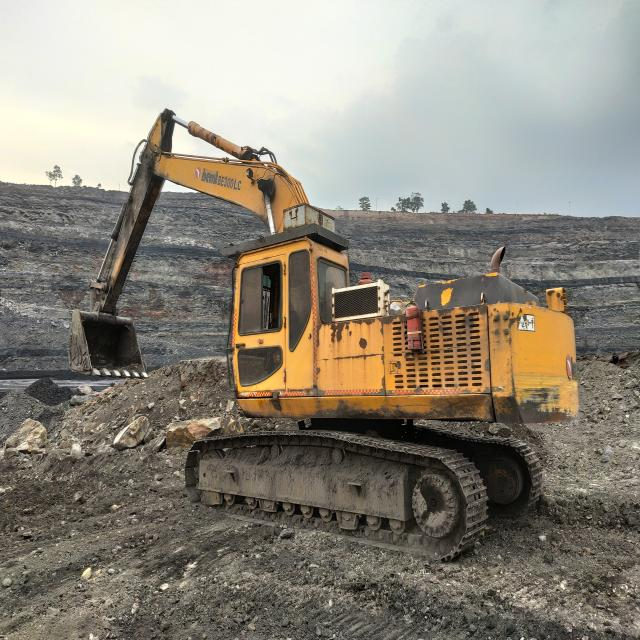excavator: (68, 111, 579, 553)
